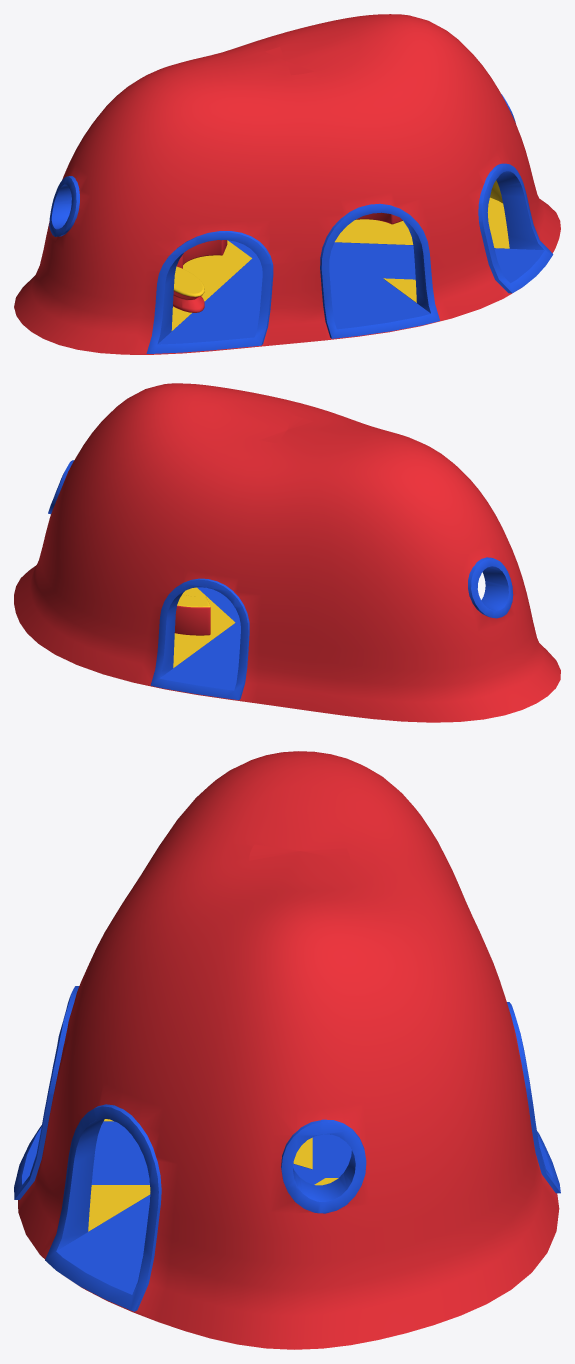
File: adobe_16_three_arch_longhouse.glb
3 renders of one model, top to bottom at view 1: azimuth 30°, elevation 25°; view 2: azimuth 150°, elevation 25°; view 3: azimuth 270°, elevation 25°, orthographic. The views are drawn at different scales.
Visible parts, largest first — view 1: 16 • Three-Arch Longhouse, West long plateau bench, Rear west counter; view 2: 16 • Three-Arch Longhouse, Rear east counter; view 3: 16 • Three-Arch Longhouse.
Part boxes in pixels (<box>): 16 • Three-Arch Longhouse: <box>14,14,560,354</box>; West long plateau bench: <box>173,266,204,312</box>; Rear west counter: <box>176,240,227,268</box>; 16 • Three-Arch Longhouse: <box>14,383,560,722</box>; Rear east counter: <box>174,594,210,635</box>; 16 • Three-Arch Longhouse: <box>14,751,560,1349</box>.
Size of the model in its own units: 11.22 by 4.53 by 6.86.
